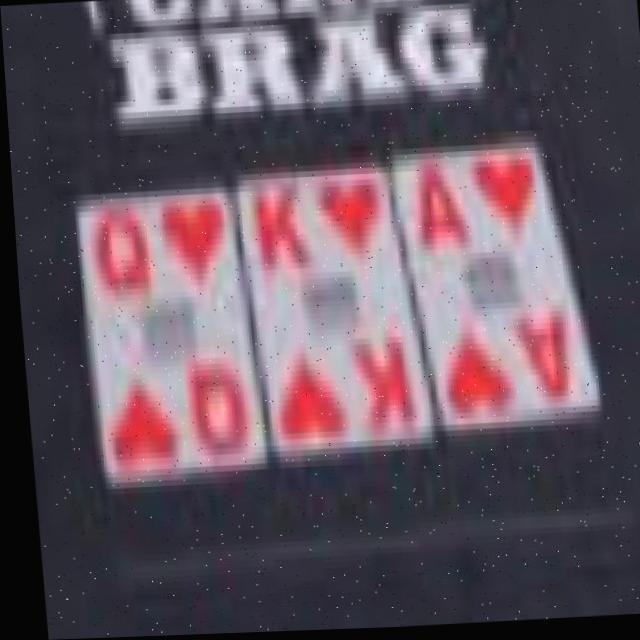Card-A: (391, 144, 590, 434)
Card-K: (236, 178, 426, 453)
Card-Q: (74, 189, 258, 486)
